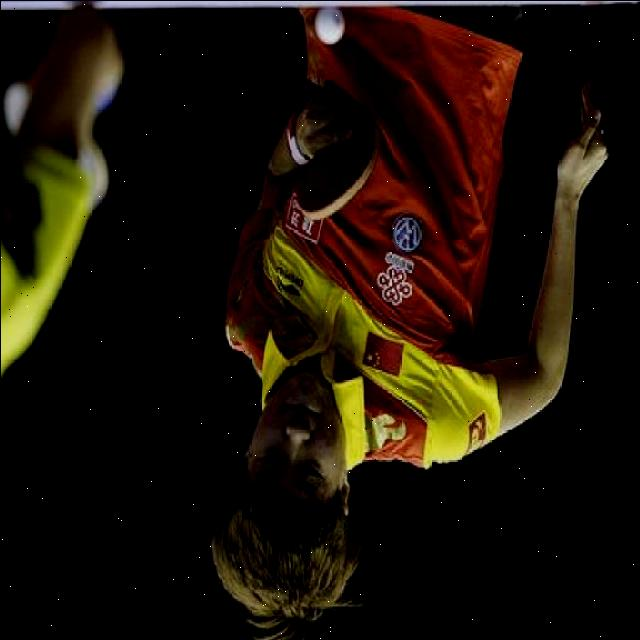ping-pong-ball: (314, 5, 345, 44)
